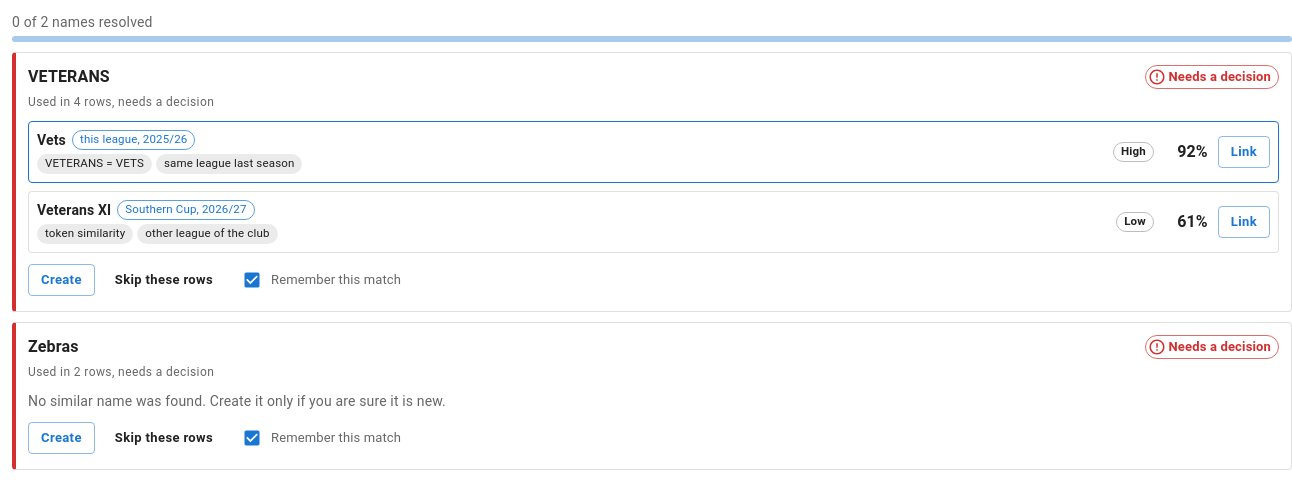
Test: ReferenceResolver › links, creates and skips, and counts progress
The image size is (1292, 487).
Click the button with aria-label "Link: Vets" at point(1244, 152), box top-left (1218, 136), bottom-right (1270, 168)
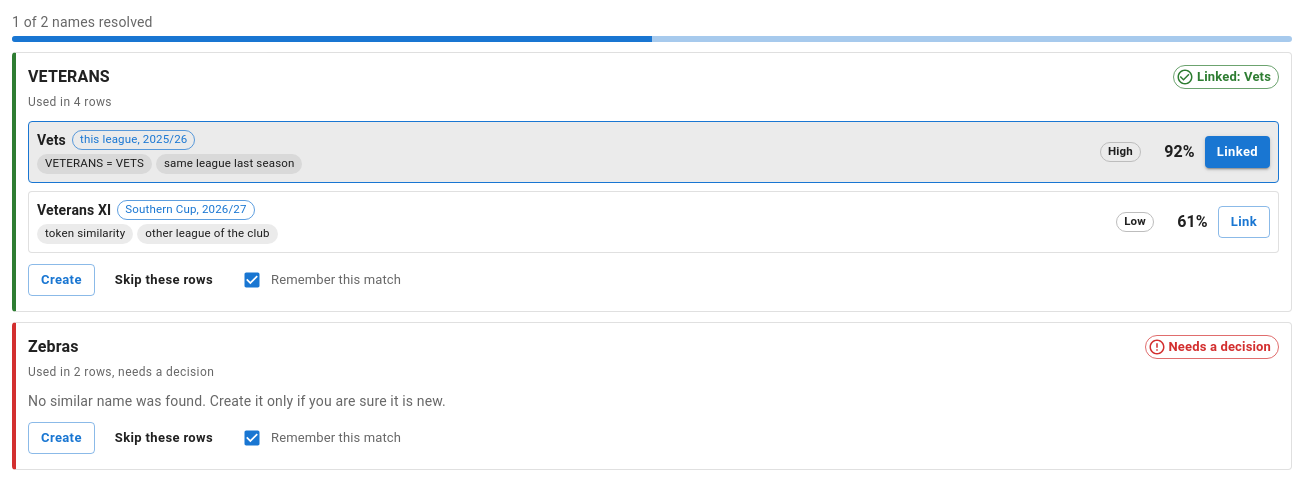
Expected: the message with test id "resolver-progress" shows "1 of 2", top-left (12, 14), bottom-right (153, 30)
Click the button "Create" below ", needs a decision" at point(61, 438), box top-left (28, 422), bottom-right (95, 454)
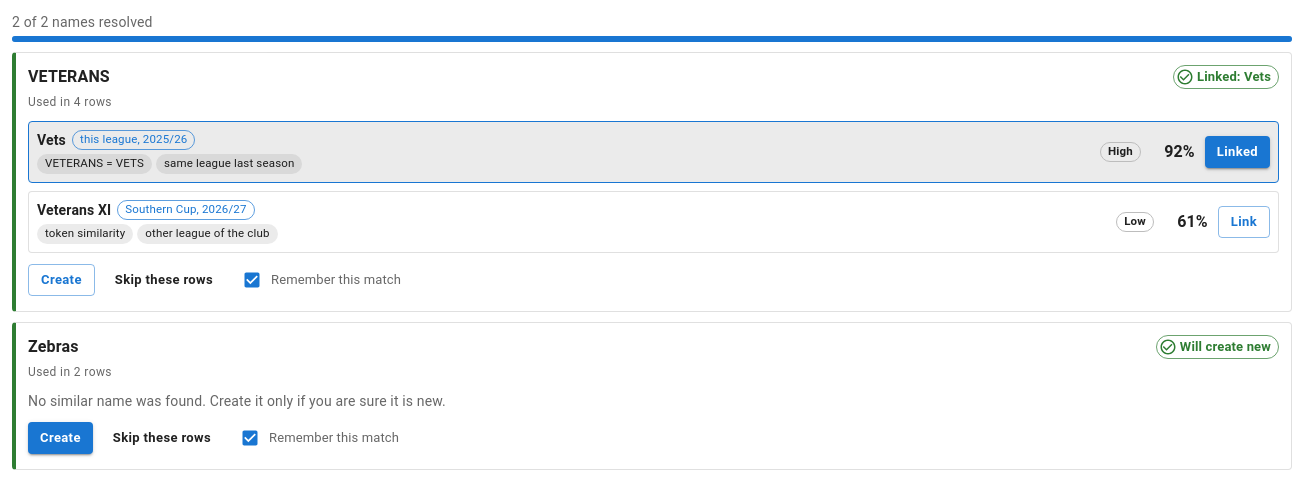
Expected: the message with test id "resolver-progress" shows "2 of 2", top-left (12, 14), bottom-right (153, 30)
Expected: the element with test id "resolver-card-Zebras" shows "Will create new", top-left (1180, 339), bottom-right (1271, 354)
